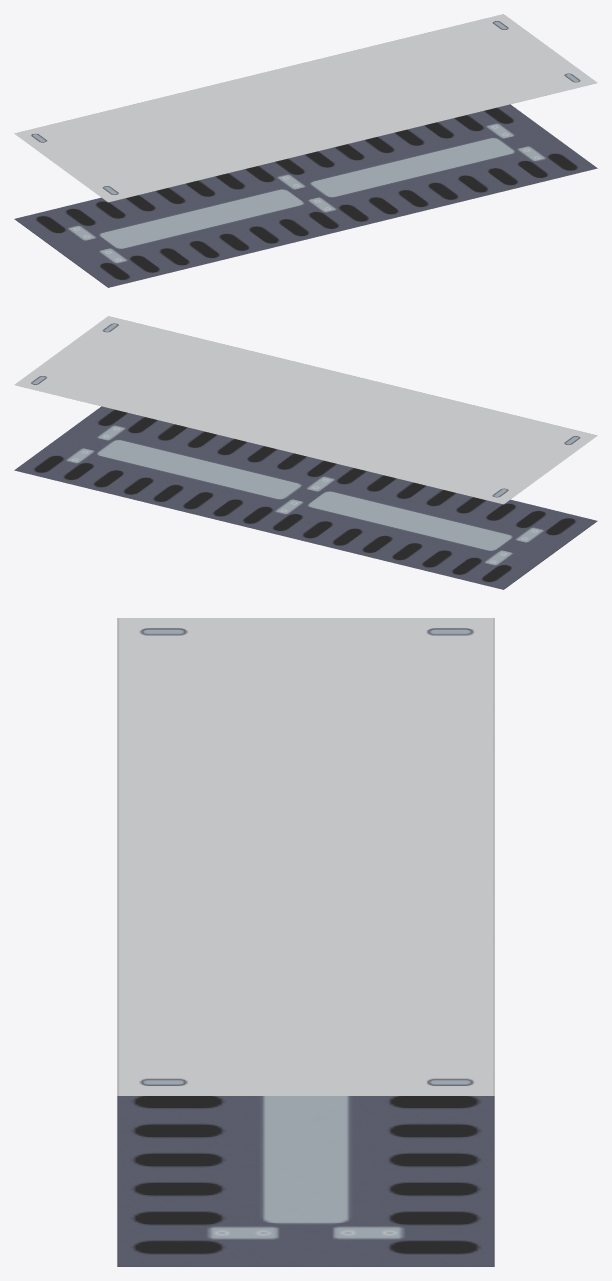
The model's file is Roof_Tinny_02_LP.FBX.
3 renders of one model, top to bottom at view 1: azimuth 30°, elevation 25°; view 2: azimuth 150°, elevation 25°; view 3: azimuth 270°, elevation 25°, orthographic. The views are drawn at different scales.
Parts seen in each view (by area): view 1: Roof_Tinny_02_LP; view 2: Roof_Tinny_02_LP; view 3: Roof_Tinny_02_LP.
Part boxes in pixels (bbox=[...]): Roof_Tinny_02_LP: bbox=[14, 14, 597, 287]; Roof_Tinny_02_LP: bbox=[14, 316, 597, 589]; Roof_Tinny_02_LP: bbox=[117, 618, 494, 1266].
Bounding box in the file's own units: 6 × 1 × 2.
2 materials, 2 textured.
